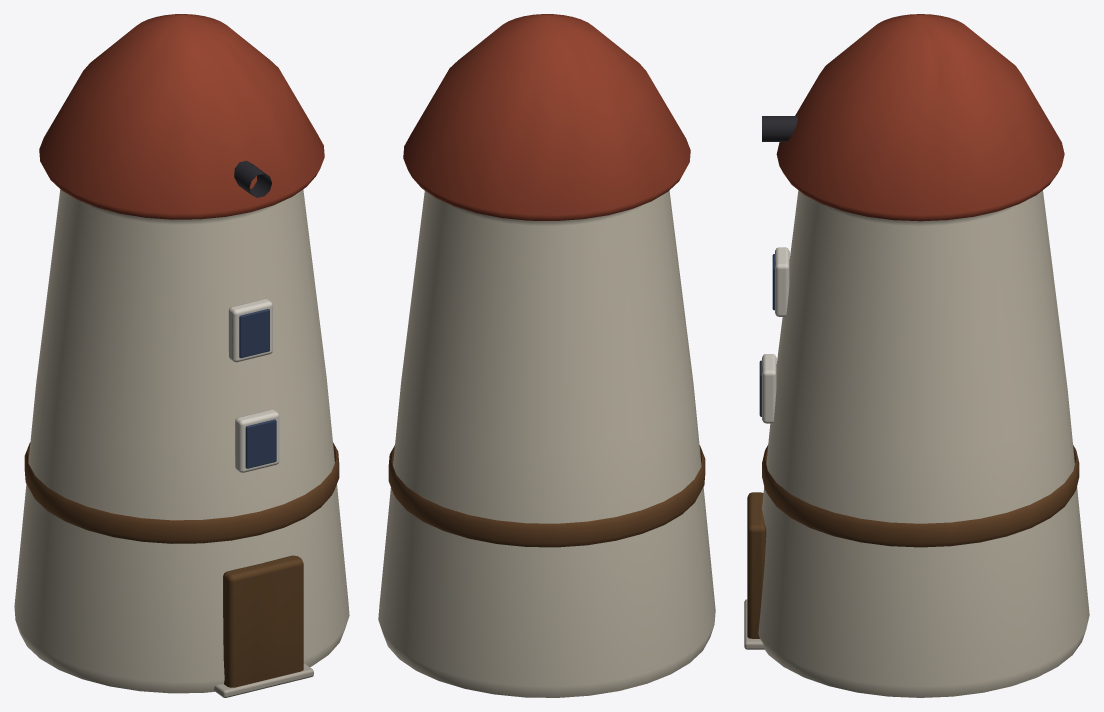
File: windmill.glb
3 views of the same model, side by side, from view 1: azimuth 30°, elevation 25°; view 2: azimuth 150°, elevation 25°; view 3: azimuth 270°, elevation 25° (orthographic).
Parts seen in each view (by area): view 1: windmill_main; view 2: windmill_main; view 3: windmill_main.
Boxes of the visible parts, x1=… form: windmill_main: x1=14, y1=14, x2=349, y2=697; windmill_main: x1=378, y1=14, x2=715, y2=697; windmill_main: x1=744, y1=14, x2=1089, y2=697.
Size of the model in its own units: 2.3 by 4.6 by 2.35.
